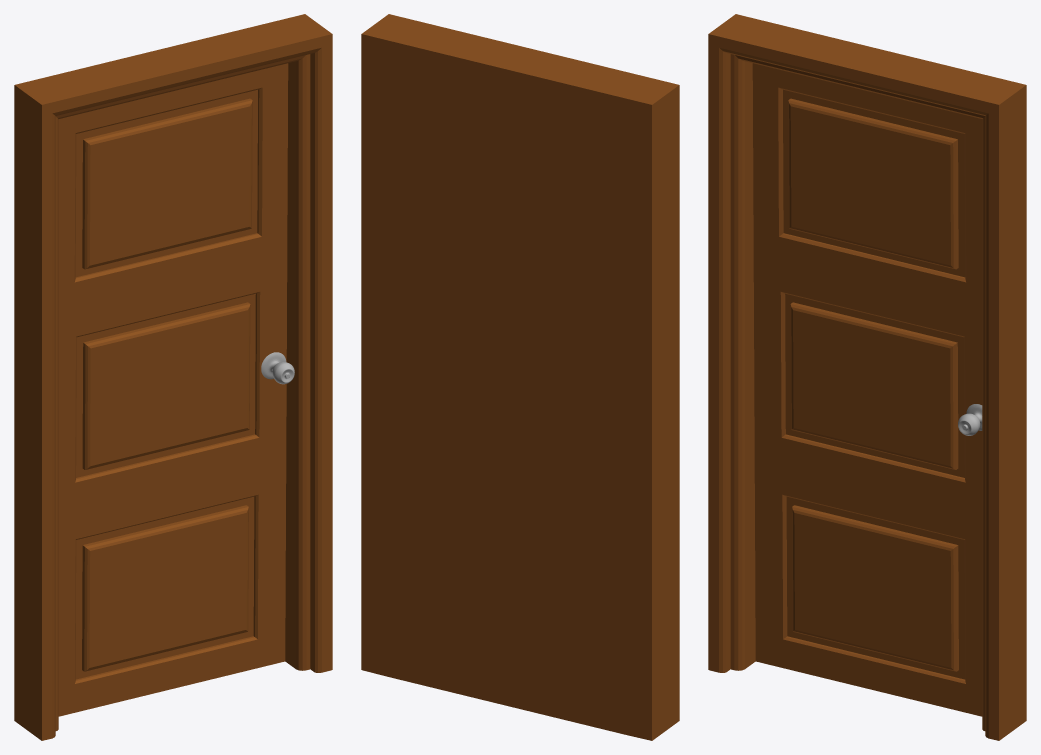
Rendered from Door-Model-1.fbx.
3 renders of one model, left to right at view 1: azimuth 30°, elevation 25°; view 2: azimuth 150°, elevation 25°; view 3: azimuth 330°, elevation 25°, orthographic.
Parts seen in each view (by area): view 1: Cube.002, Cube.003; view 2: Cube.002; view 3: Cube.002, Cube.003.
Part boxes in pixels (box(x1,y1,x2,y2)): Cube.002: box(14, 14, 332, 740); Cube.003: box(261, 352, 294, 384); Cube.002: box(361, 14, 679, 740); Cube.002: box(708, 14, 1026, 740); Cube.003: box(958, 404, 982, 435).
Size of the model in its own units: 110 by 230 by 17.93.
